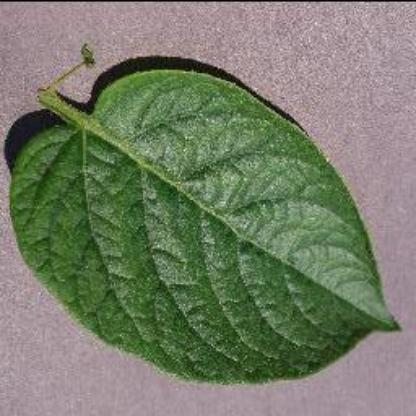Healthy-plant: (11, 52, 399, 386)
